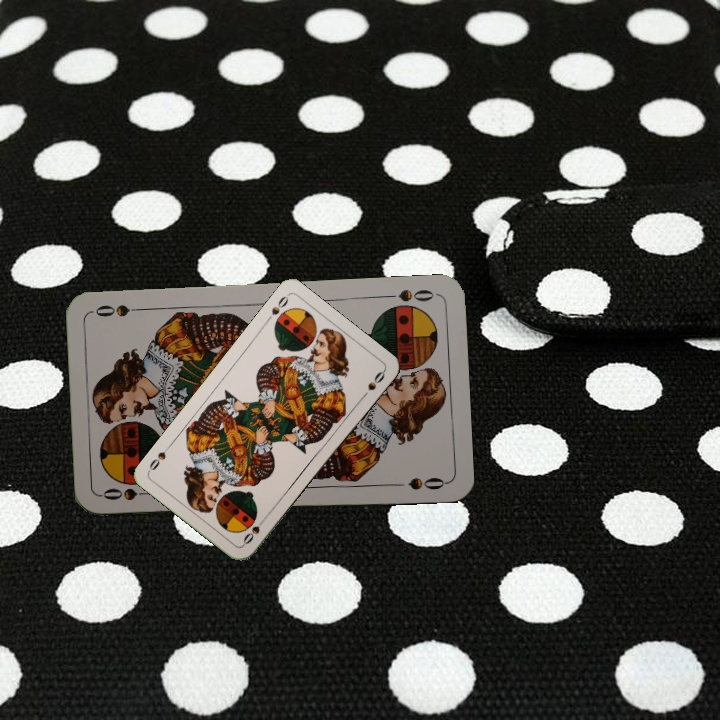SO: (99, 484, 158, 503), (380, 285, 439, 304), (239, 513, 269, 548), (262, 292, 291, 326)
